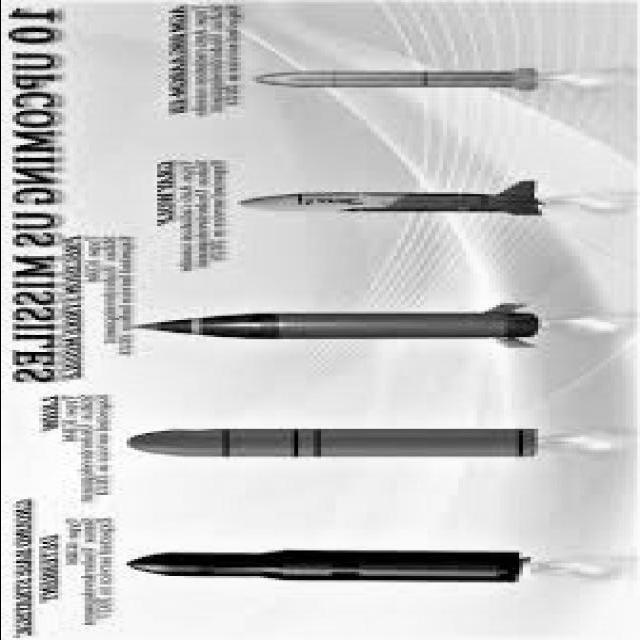missile: (118, 541, 546, 593), (136, 299, 541, 353), (236, 177, 553, 226), (252, 59, 544, 107), (125, 428, 526, 457)
